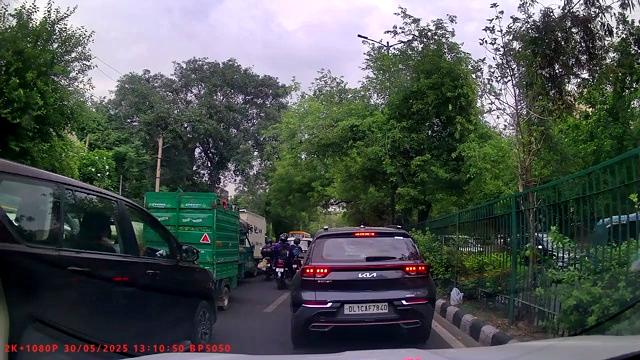motorcycle_with_helmet: (267, 232, 298, 289)
